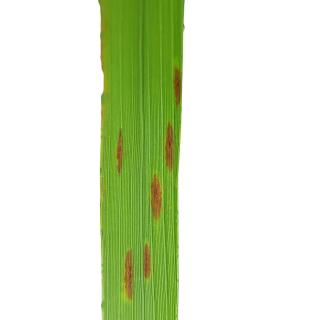Bercak-Cokelat-Sempit: (106, 124, 134, 178), (156, 118, 181, 177), (166, 66, 188, 111), (149, 174, 167, 224), (119, 247, 135, 303), (142, 239, 157, 282)
